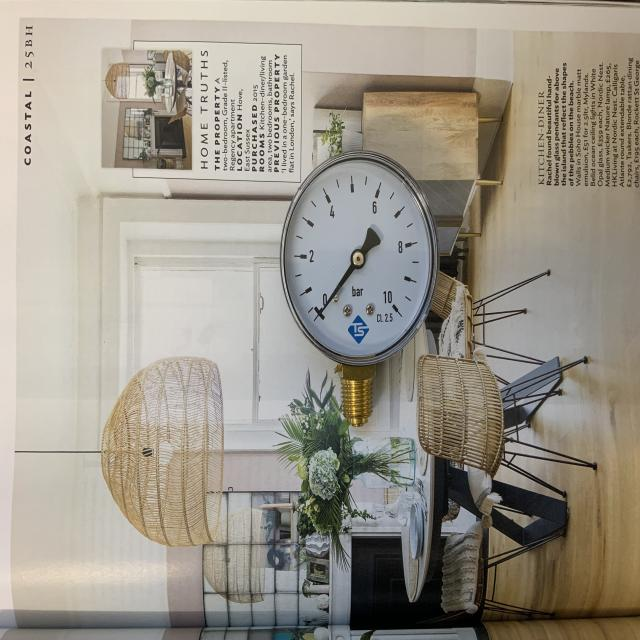gauge: (281, 150, 438, 366)
